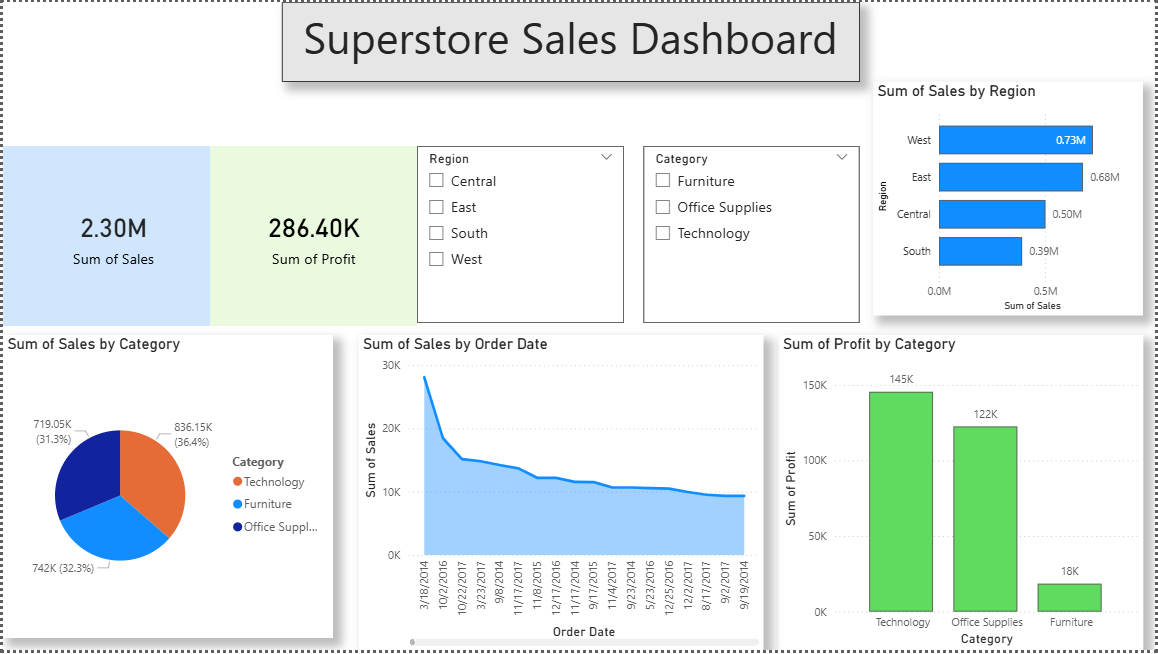

This screenshot's page, from the dashboard's own definition file:
{"tool":"powerbi","page":{"name":"Dashboard","canvas":[1280,720],"ordinal":0},"visuals":[{"type":"card","fields":{"Values":["Sum(superstore.Sales)"]},"box":[0,160,245,200],"z":0},{"type":"card","fields":{"Values":["Sum(superstore.Profit)"]},"box":[230,160,230,200],"z":1},{"type":"clusteredBarChart","fields":{"Category":["superstore.Region"],"Y":["Sum(superstore.Sales)"]},"box":[966.7,88.3,300,260],"z":2},{"type":"pieChart","fields":{"Category":["superstore.Category"],"Y":["Sum(superstore.Sales)"]},"box":[0,370,366.7,336.7],"z":3},{"type":"clusteredColumnChart","fields":{"Category":["superstore.Category"],"Y":["Sum(superstore.Profit)"]},"box":[861.7,370,405,350],"z":4},{"type":"lineChart","fields":{"Category":["superstore.Order Date"],"Y":["Sum(superstore.Sales)"]},"box":[395,370,450,350],"z":5},{"type":"slicer","fields":{"Values":["superstore.Region"]},"box":[460,160,230,196.7],"z":6},{"type":"slicer","fields":{"Values":["superstore.Category"]},"box":[711.7,160,240,196.7],"z":7},{"type":"textbox","box":[310,0,641.7,88.3],"z":8},{"type":"textbox","box":[0,0,245,150],"z":9}]}

Visuals, with their boxes in screenshot pixels (x1, y1, x2, y2), scaled from the page's 1280x720 canvas onto the 1158x654 screenshot:
card - Sum(superstore.Sales): locate(0, 145, 222, 327)
card - Sum(superstore.Profit): locate(208, 145, 416, 327)
clusteredBarChart - superstore.Region x Sum(superstore.Sales): locate(875, 80, 1146, 316)
pieChart - superstore.Category x Sum(superstore.Sales): locate(0, 336, 332, 642)
clusteredColumnChart - superstore.Category x Sum(superstore.Profit): locate(780, 336, 1146, 653)
lineChart - superstore.Order Date x Sum(superstore.Sales): locate(357, 336, 764, 653)
slicer - superstore.Region: locate(416, 145, 624, 324)
slicer - superstore.Category: locate(644, 145, 861, 324)
textbox: locate(280, 0, 861, 80)
textbox: locate(0, 0, 222, 136)
